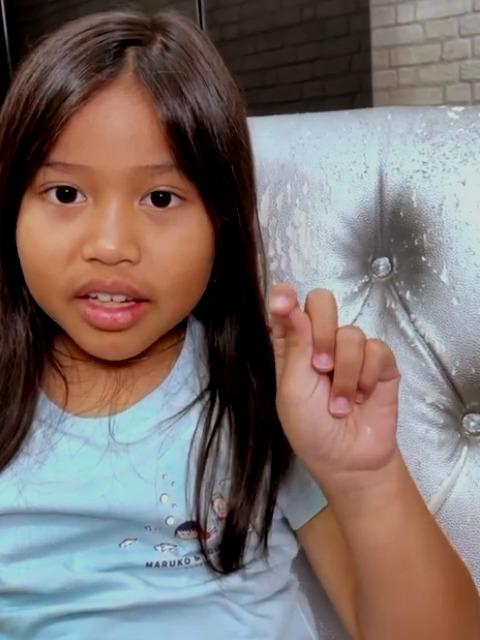T: (262, 281, 407, 477)
